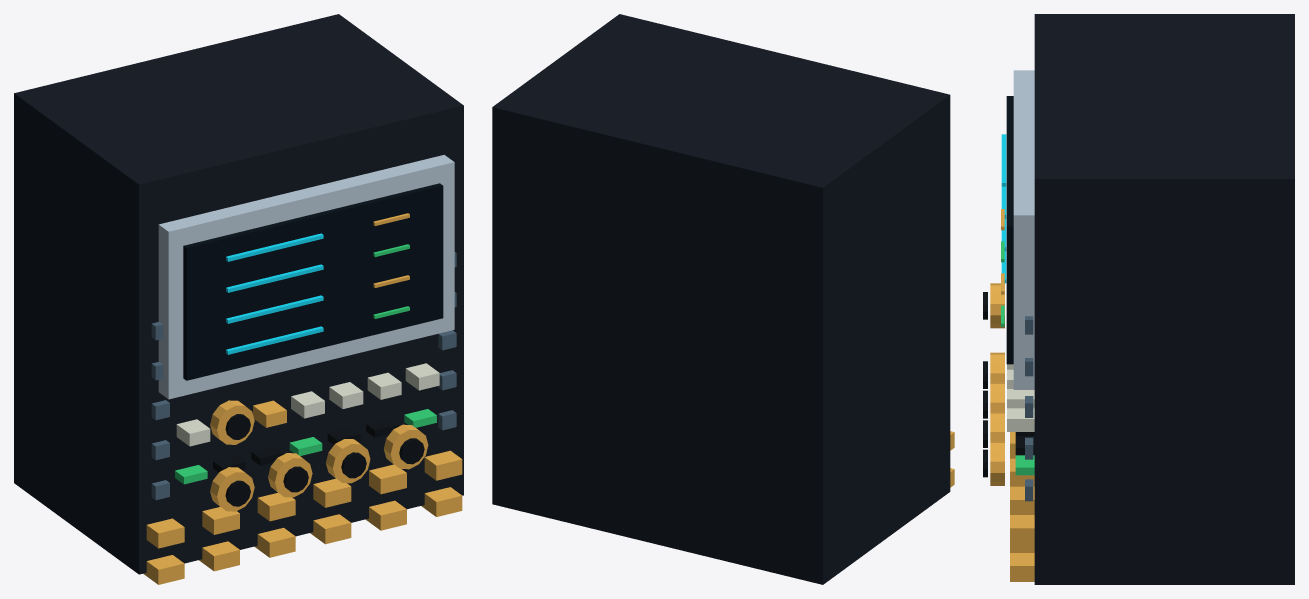
The model's file is 85_L92_SamplingMissionSCADA.fbx.
The picture shows the model from 3 angles, left to right: view 1: azimuth 30°, elevation 25°; view 2: azimuth 150°, elevation 25°; view 3: azimuth 270°, elevation 25°; orthographic projection. The views are drawn at different scales.
Parts seen in each view (by area): view 1: L92_SamplingMissionSCADA, L92_SamplingMissionSCADA_Part_0011, L92_SamplingMissionSCADA_Part_0013, L92_SamplingMissionSCADA_Part_0015, L92_SamplingMissionSCADA_Part_0019, L92_SamplingMissionSCADA_Part_0017; view 2: L92_SamplingMissionSCADA; view 3: L92_SamplingMissionSCADA, L92_SamplingMissionSCADA_Part_0017, L92_SamplingMissionSCADA_Part_0019, L92_SamplingMissionSCADA_Part_0011, L92_SamplingMissionSCADA_Part_0013, L92_SamplingMissionSCADA_Part_0015.
Part boxes in pixels (x1=…): L92_SamplingMissionSCADA: x1=14, y1=14, x2=463, y2=584; L92_SamplingMissionSCADA_Part_0011: x1=210, y1=467, x2=254, y2=511; L92_SamplingMissionSCADA_Part_0013: x1=268, y1=453, x2=312, y2=497; L92_SamplingMissionSCADA_Part_0015: x1=326, y1=439, x2=370, y2=483; L92_SamplingMissionSCADA_Part_0019: x1=210, y1=400, x2=254, y2=444; L92_SamplingMissionSCADA_Part_0017: x1=384, y1=424, x2=428, y2=469; L92_SamplingMissionSCADA: x1=492, y1=14, x2=954, y2=584; L92_SamplingMissionSCADA: x1=1001, y1=14, x2=1294, y2=584; L92_SamplingMissionSCADA_Part_0017: x1=990, y1=441, x2=1004, y2=485; L92_SamplingMissionSCADA_Part_0019: x1=990, y1=283, x2=1004, y2=328; L92_SamplingMissionSCADA_Part_0011: x1=990, y1=352, x2=1004, y2=381; L92_SamplingMissionSCADA_Part_0013: x1=990, y1=382, x2=1004, y2=411; L92_SamplingMissionSCADA_Part_0015: x1=990, y1=411, x2=1004, y2=440.
Size of the model in its own units: 112 by 130 by 89.6.
